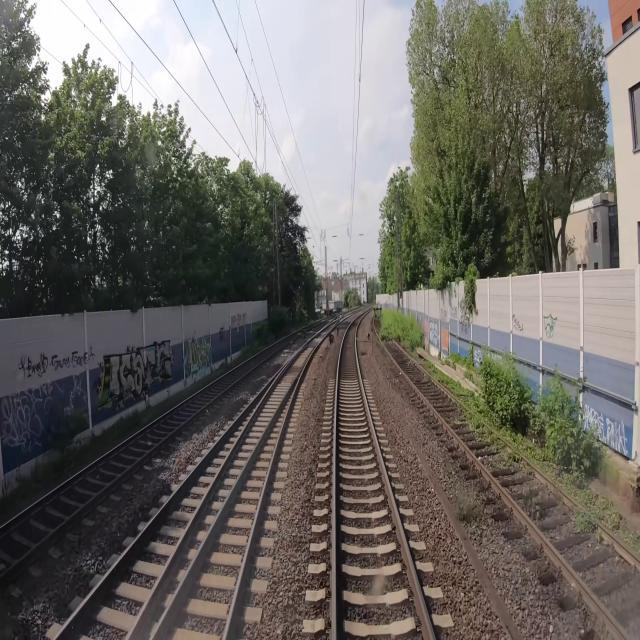Plant: (437, 375, 550, 473), (503, 448, 536, 474), (573, 505, 598, 533)
